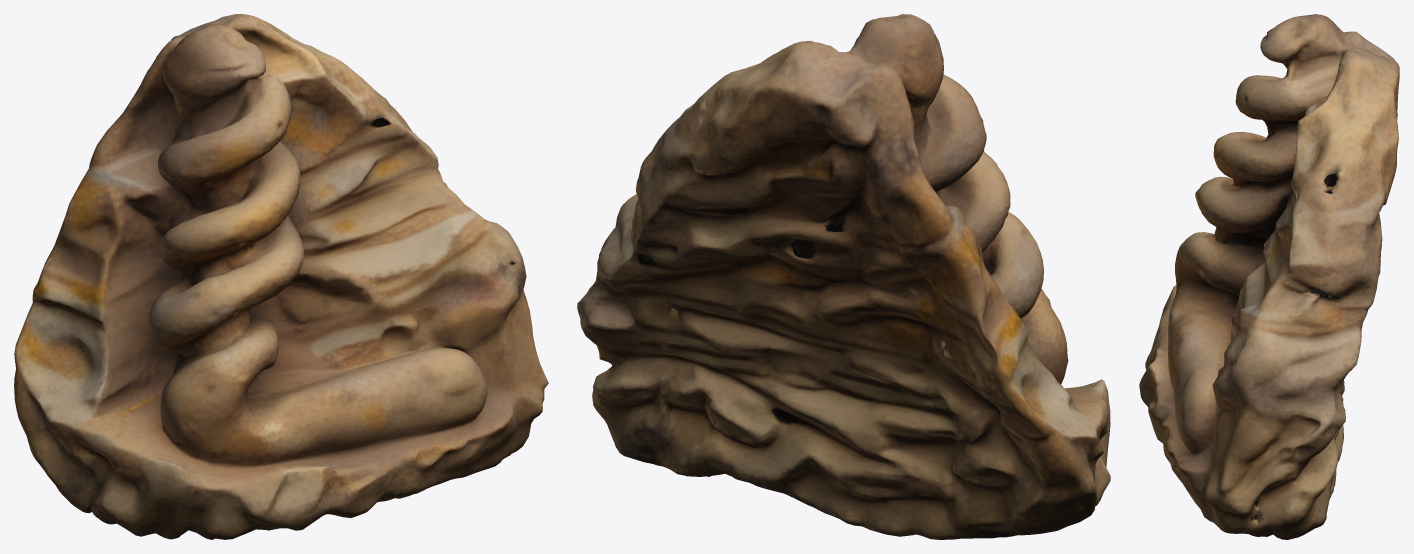
3 views of the same model, side by side, from view 1: azimuth 30°, elevation 25°; view 2: azimuth 150°, elevation 25°; view 3: azimuth 270°, elevation 25° (orthographic). The views are drawn at different scales.
Parts seen in each view (by area): view 1: world; view 2: world; view 3: world.
Boxes of the visible parts, left/top/right/bottom form: world: left=14, top=14, right=548, bottom=539; world: left=577, top=14, right=1110, bottom=539; world: left=1139, top=14, right=1399, bottom=539.
Bounding box in the file's own units: 2 × 1.88 × 1.07.
Materials: 1 (1 with a texture image).
